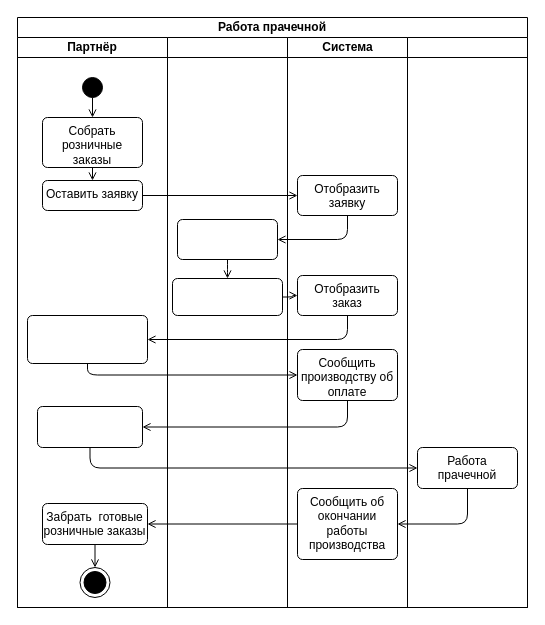
This 545x625 diagram has some shape labels left out. The shapes that lost their labels are listed below. From the top down, each one's box as (x1, y1, x2, y2) in pixels, then its label:
(176, 218, 278, 260): Рассмотреть заявку
(172, 278, 282, 316): Составить партнёрский заказ
(26, 314, 148, 364): Оплатить партнёрский заказ
(166, 36, 288, 608): Менеджер
(406, 36, 528, 608): Производство
(36, 406, 142, 448): Предоставить розничные заказы
